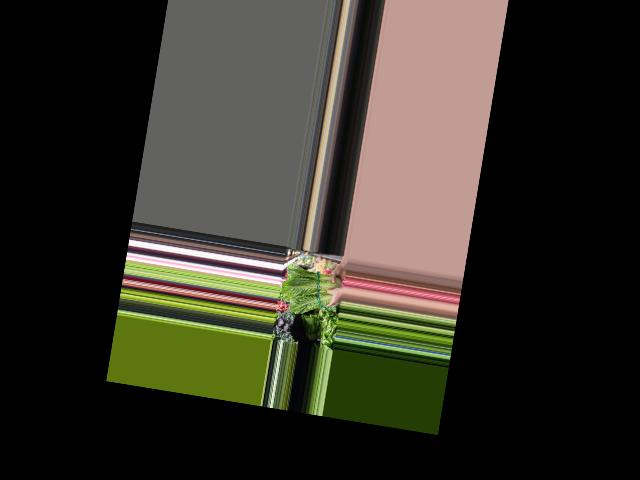lettuce: (280, 265, 346, 321)
